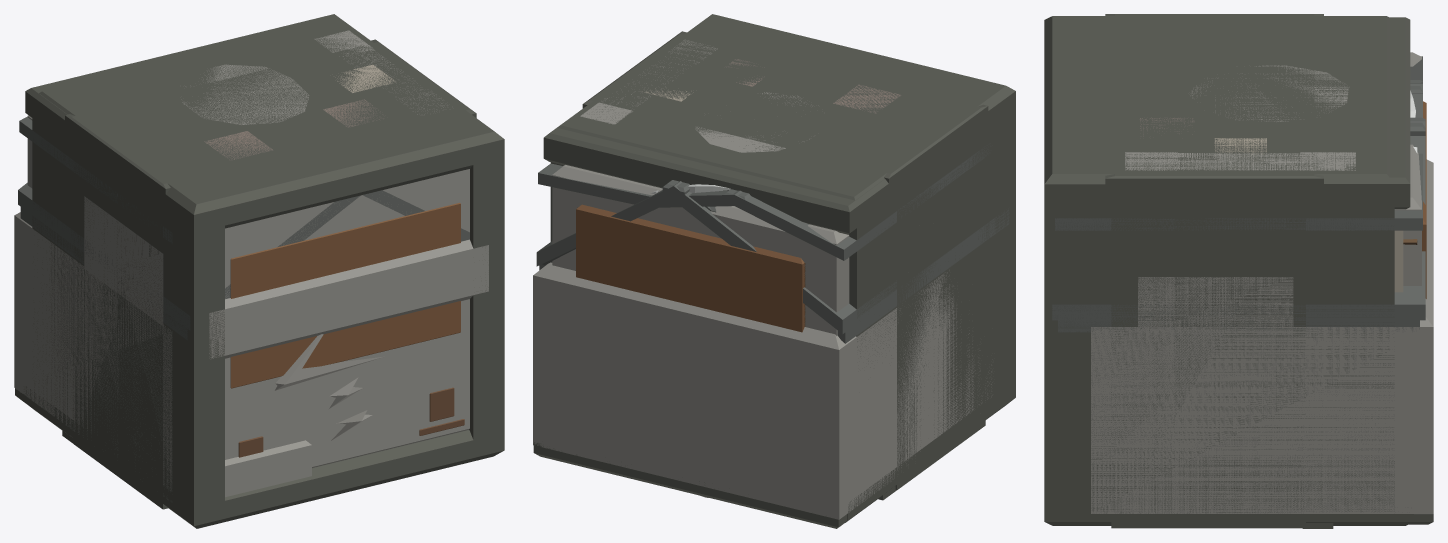
Rendered from Village3D.fbx.
3 renders of one model, left to right at view 1: azimuth 30°, elevation 25°; view 2: azimuth 150°, elevation 25°; view 3: azimuth 270°, elevation 25°, orthographic. The views are drawn at different scales.
Parts seen in each view (by area): view 1: GEO_VIL_Window_Timber, GEO_VIL_Door_Timber, GEO_VIL_CascadeStep_Stone, GEO_VIL_SourceBowl_Variant00_Stone, GEO_VIL_MineCart_Body, GEO_VIL_SpringLedge_Stone, GEO_VIL_House_Variant01_Roof, GEO_VIL_RailBridge_Rails, GEO_VIL_BedStone_Variant02_Stone, GEO_VIL_TopHouse_Roof, GEO_VIL_House_Variant00_Roof, GEO_VIL_House_Variant01_Chimney (+2 smaller); view 2: GEO_VIL_CascadeStep_Stone, GEO_VIL_Window_Timber, GEO_VIL_Door_Timber, GEO_VIL_MineCart_Body, GEO_VIL_SourceBowl_Variant00_Stone, GEO_VIL_TopHouse_Roof, GEO_VIL_House_Variant01_Roof, GEO_VIL_House_Variant00_Roof, GEO_VIL_SpringLedge_Stone, GEO_VIL_House_Variant01_Chimney; view 3: GEO_VIL_Window_Timber, GEO_VIL_CascadeStep_Stone, GEO_VIL_Door_Timber, GEO_VIL_SourceBowl_Variant00_Stone, GEO_VIL_House_Variant01_Roof, GEO_VIL_TopHouse_Roof, GEO_VIL_House_Variant00_Roof, GEO_VIL_TopHouse_Chimney, GEO_VIL_SpringLedge_Stone, GEO_VIL_SourceBowl_Variant01_Stone, GEO_VIL_MineCart_Body.
Part boxes in pixels (x1=…): GEO_VIL_Window_Timber: x1=15, y1=14, x2=504, y2=528; GEO_VIL_Door_Timber: x1=62, y1=39, x2=476, y2=509; GEO_VIL_CascadeStep_Stone: x1=14, y1=196, x2=488, y2=501; GEO_VIL_SourceBowl_Variant00_Stone: x1=27, y1=31, x2=469, y2=467; GEO_VIL_MineCart_Body: x1=230, y1=202, x2=460, y2=388; GEO_VIL_SpringLedge_Stone: x1=181, y1=64, x2=311, y2=497; GEO_VIL_House_Variant01_Roof: x1=18, y1=182, x2=469, y2=330; GEO_VIL_RailBridge_Rails: x1=238, y1=387, x2=464, y2=457; GEO_VIL_BedStone_Variant02_Stone: x1=275, y1=334, x2=384, y2=390; GEO_VIL_TopHouse_Roof: x1=19, y1=116, x2=172, y2=243; GEO_VIL_House_Variant00_Roof: x1=20, y1=202, x2=187, y2=340; GEO_VIL_House_Variant01_Chimney: x1=204, y1=131, x2=272, y2=159; GEO_VIL_CascadeStep_Stone: x1=533, y1=262, x2=992, y2=519; GEO_VIL_Window_Timber: x1=533, y1=14, x2=1015, y2=528; GEO_VIL_Door_Timber: x1=582, y1=31, x2=988, y2=500; GEO_VIL_MineCart_Body: x1=576, y1=204, x2=805, y2=332; GEO_VIL_SourceBowl_Variant00_Stone: x1=552, y1=43, x2=849, y2=335; GEO_VIL_TopHouse_Roof: x1=538, y1=143, x2=992, y2=260; GEO_VIL_House_Variant01_Roof: x1=536, y1=180, x2=896, y2=334; GEO_VIL_House_Variant00_Roof: x1=539, y1=206, x2=1009, y2=343; GEO_VIL_SpringLedge_Stone: x1=695, y1=92, x2=818, y2=497; GEO_VIL_House_Variant01_Chimney: x1=833, y1=84, x2=900, y2=113; GEO_VIL_Window_Timber: x1=1044, y1=16, x2=1433, y2=525; GEO_VIL_CascadeStep_Stone: x1=1091, y1=159, x2=1433, y2=514; GEO_VIL_Door_Timber: x1=1105, y1=14, x2=1333, y2=528; GEO_VIL_SourceBowl_Variant00_Stone: x1=1126, y1=52, x2=1421, y2=285; GEO_VIL_House_Variant01_Roof: x1=1052, y1=117, x2=1425, y2=320; GEO_VIL_TopHouse_Roof: x1=1055, y1=56, x2=1422, y2=230; GEO_VIL_House_Variant00_Roof: x1=1058, y1=314, x2=1419, y2=332; GEO_VIL_TopHouse_Chimney: x1=1214, y1=138, x2=1403, y2=292; GEO_VIL_SpringLedge_Stone: x1=1190, y1=65, x2=1349, y2=121; GEO_VIL_SourceBowl_Variant01_Stone: x1=1125, y1=152, x2=1355, y2=170; GEO_VIL_MineCart_Body: x1=1422, y1=101, x2=1426, y2=298.
Size of the model in its own units: 1 by 1 by 1.
